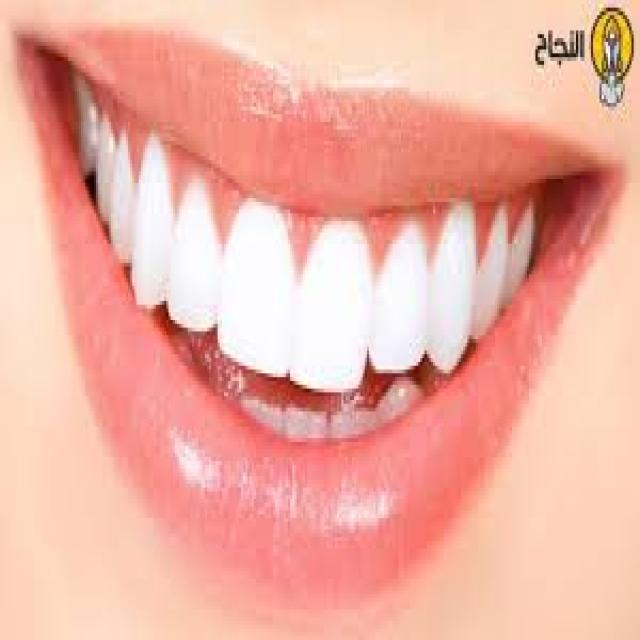tooth: (228, 198, 294, 370), (298, 221, 362, 377), (373, 232, 427, 370), (171, 179, 213, 324), (440, 202, 465, 369), (143, 129, 164, 301), (113, 126, 137, 259), (482, 202, 504, 316), (75, 68, 98, 168), (510, 198, 531, 282), (98, 118, 111, 213), (286, 408, 326, 438), (243, 396, 275, 431), (333, 408, 375, 434), (382, 385, 424, 411)
